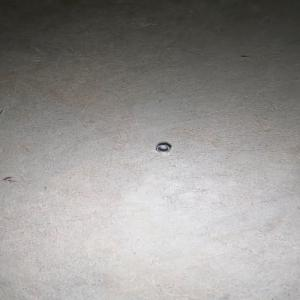Nut: (154, 144, 171, 153)
